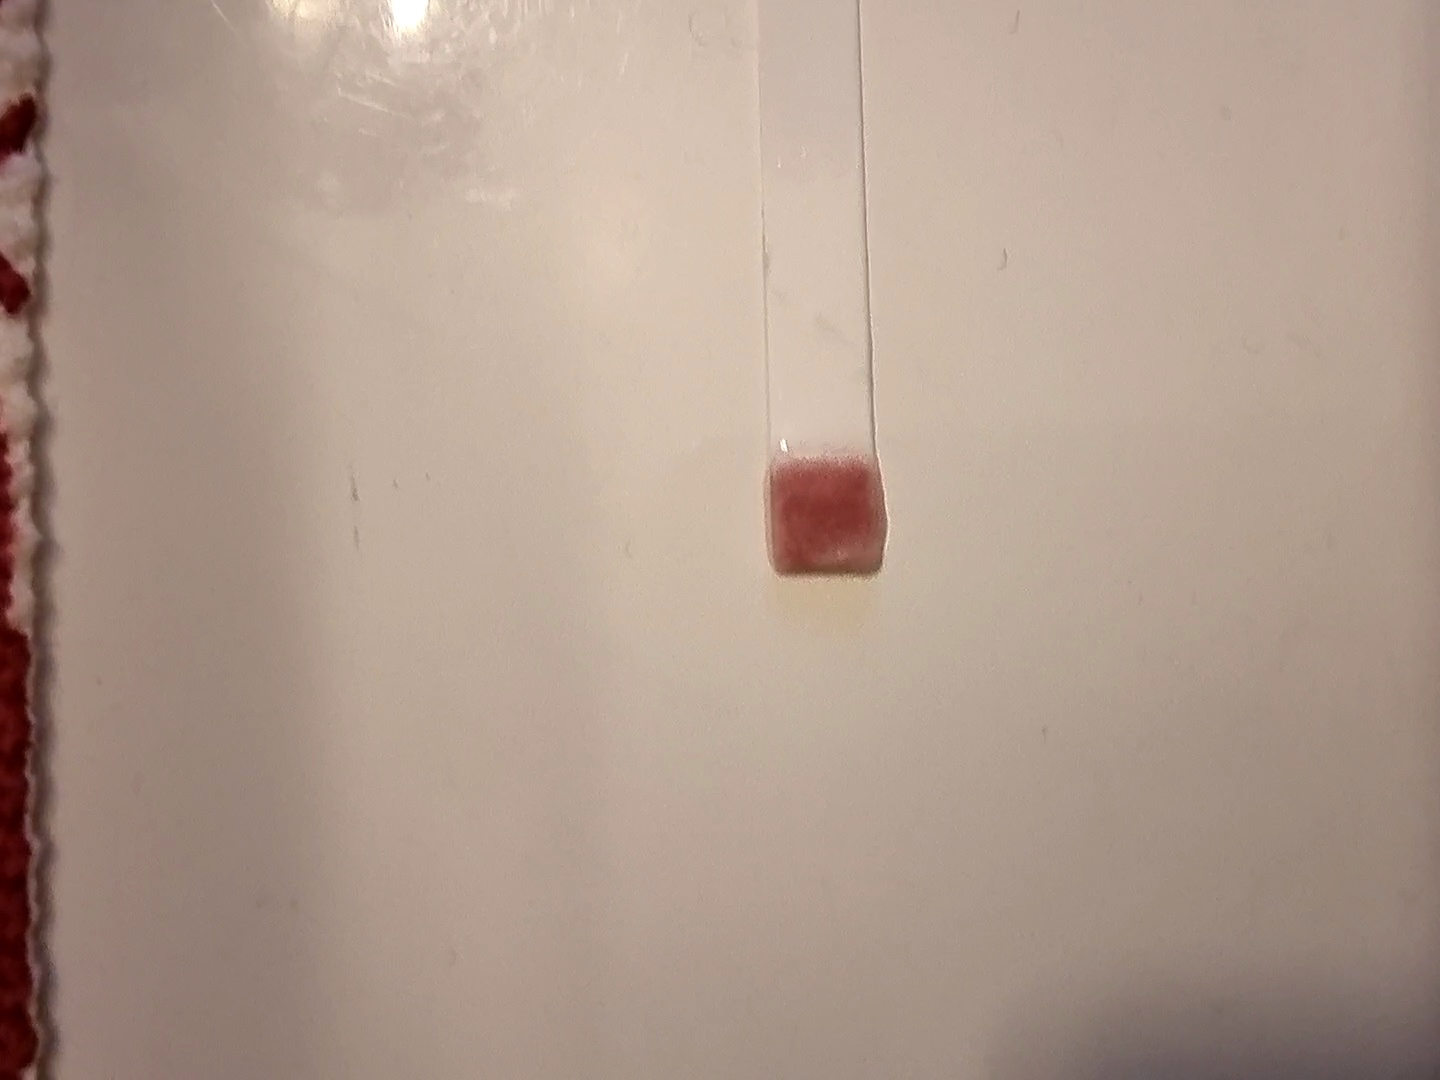keto-tip: (761, 450, 891, 580)
